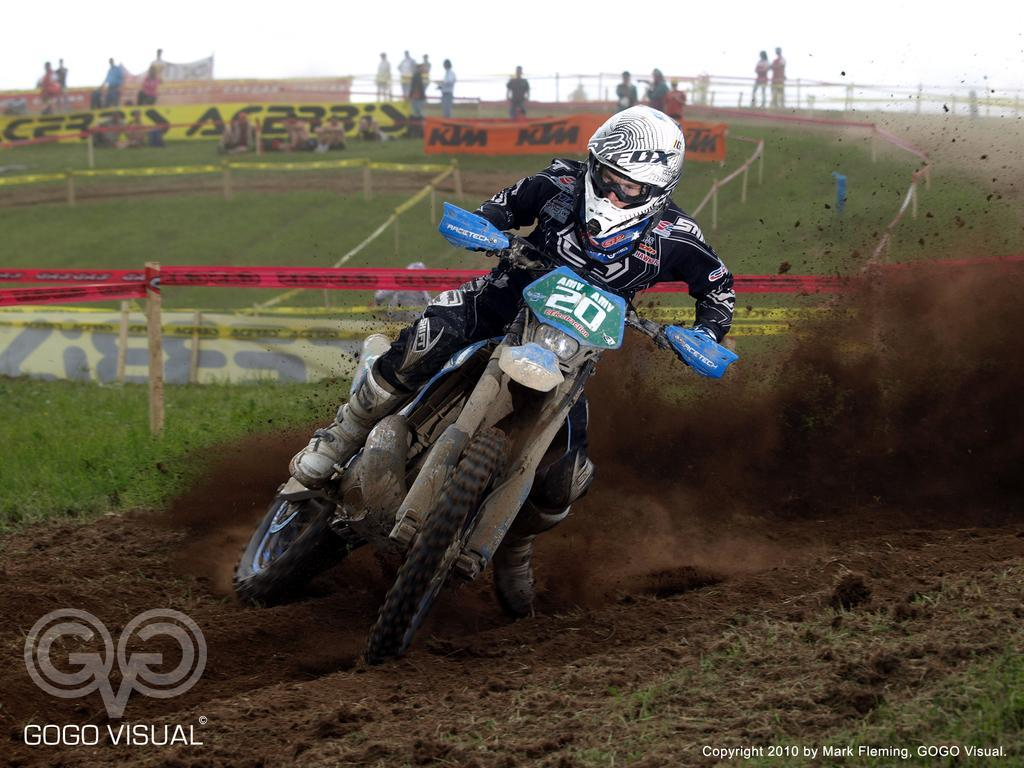helmet: (583, 102, 687, 239)
